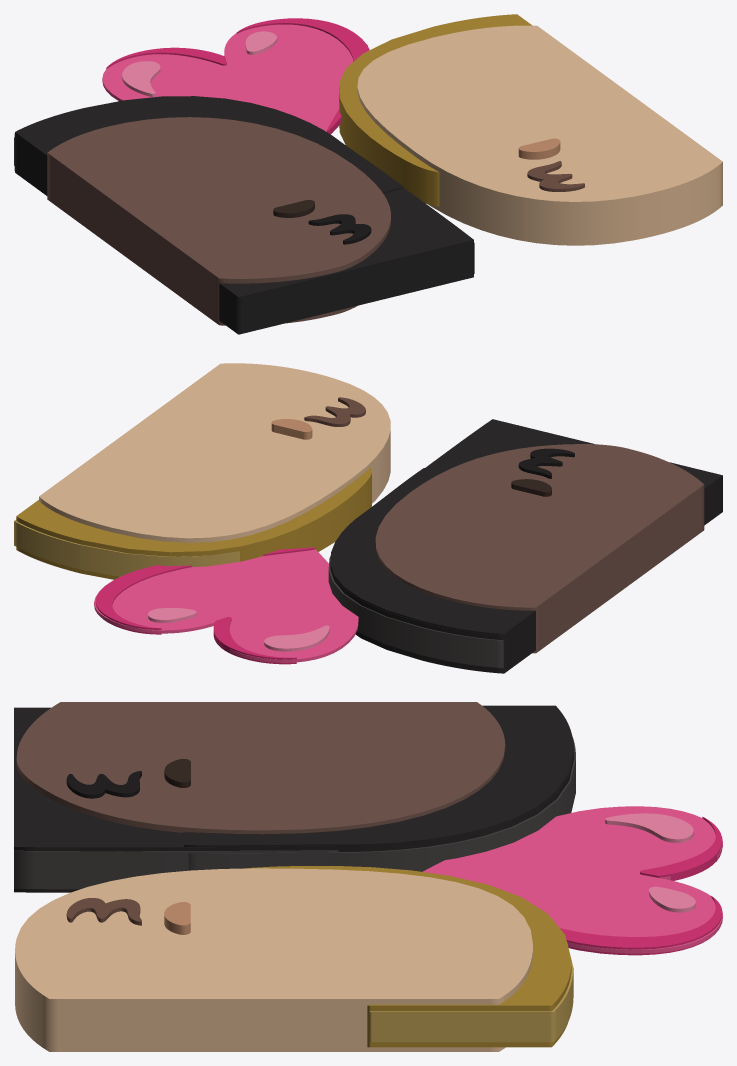
The model's file is emoji_u1f469_1f3ff_200d_2764_200d_1f48b_200d_1f468_1f3fc.glb.
3 views of the same model, one above another, from view 1: azimuth 30°, elevation 25°; view 2: azimuth 150°, elevation 25°; view 3: azimuth 270°, elevation 25° (orthographic). The views are drawn at different scales.
Parts seen in each view (by area): view 1: emoji_u1f469_1f3ff_200d_2764_200d_1f48b_200d_1f468_1f3fc; view 2: emoji_u1f469_1f3ff_200d_2764_200d_1f48b_200d_1f468_1f3fc; view 3: emoji_u1f469_1f3ff_200d_2764_200d_1f48b_200d_1f468_1f3fc.
Part boxes in pixels (x1,y1,x2,y2): emoji_u1f469_1f3ff_200d_2764_200d_1f48b_200d_1f468_1f3fc: (14,14,722,334); emoji_u1f469_1f3ff_200d_2764_200d_1f48b_200d_1f468_1f3fc: (14,363,722,673); emoji_u1f469_1f3ff_200d_2764_200d_1f48b_200d_1f468_1f3fc: (14,702,722,1051).
Size of the model in its own units: 0.0336 by 0.0038 by 0.0339.
